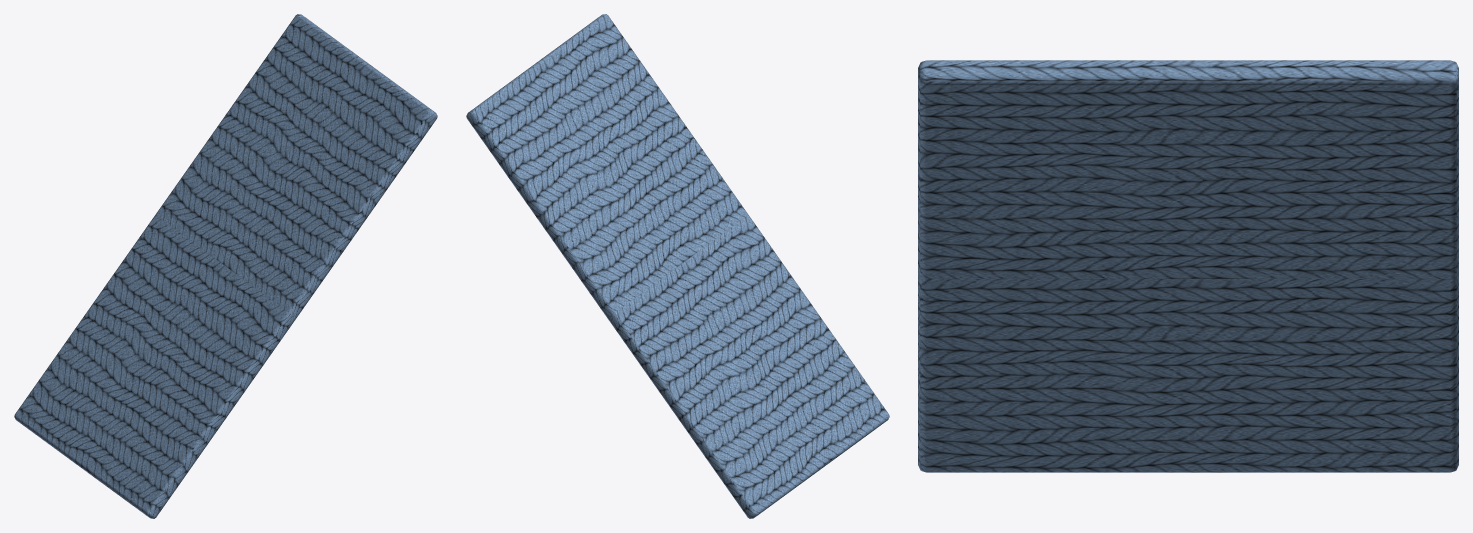
File: yarnPlatformA.fbx
3 views of the same model, side by side, from view 1: azimuth 30°, elevation 25°; view 2: azimuth 150°, elevation 25°; view 3: azimuth 270°, elevation 25° (orthographic). The views are drawn at different scales.
Parts seen in each view (by area): view 1: yarnPlatformA1; view 2: yarnPlatformA1; view 3: yarnPlatformA1.
Boxes of the visible parts, x1,y1,x2,y2 form: yarnPlatformA1: (14, 14, 437, 518); yarnPlatformA1: (466, 14, 889, 518); yarnPlatformA1: (918, 60, 1458, 472).
Size of the model in its own units: 1.77 by 1.98 by 1.42.
1 material, 1 textured.
